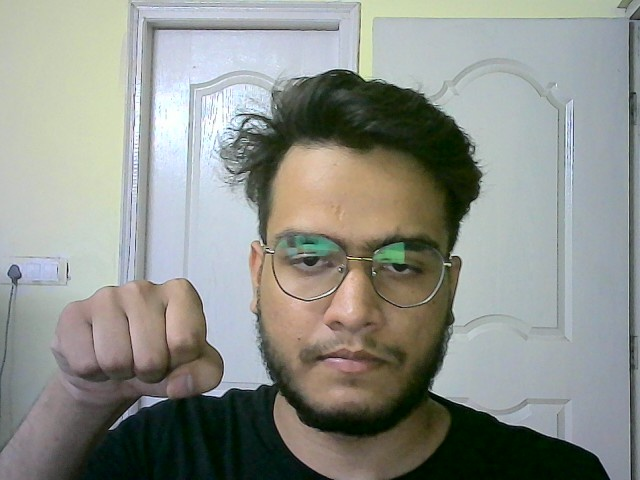Yes: (37, 265, 234, 412)
